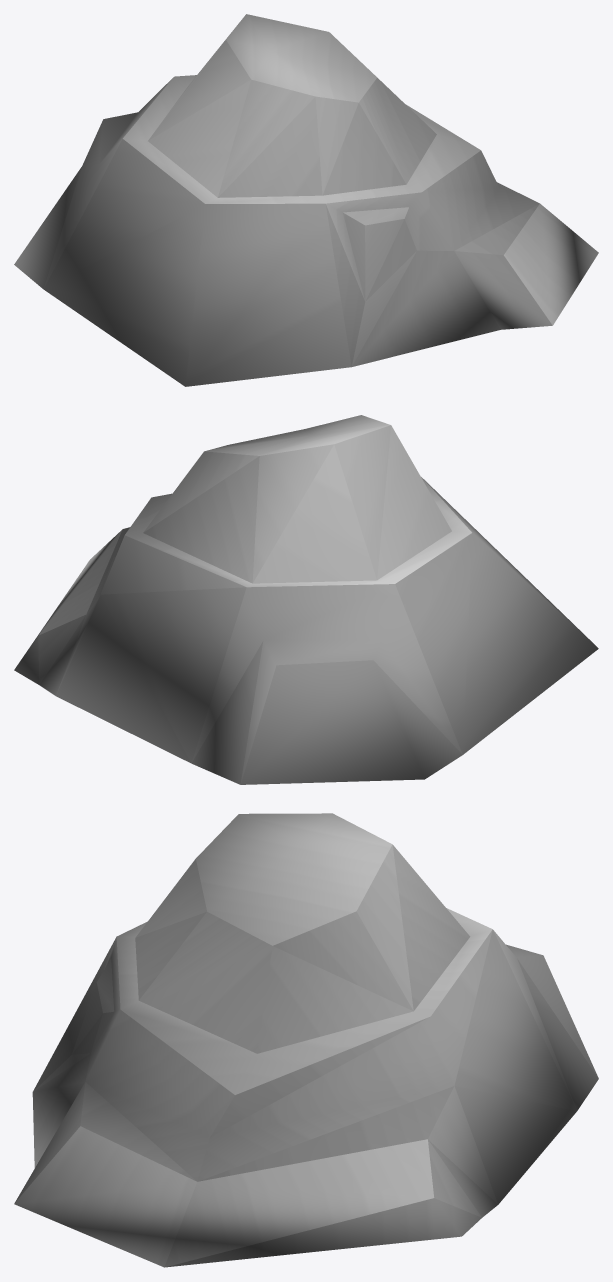
The model's file is GL-Rock-01.fbx.
3 renders of one model, top to bottom at view 1: azimuth 30°, elevation 25°; view 2: azimuth 150°, elevation 25°; view 3: azimuth 270°, elevation 25°, orthographic. The views are drawn at different scales.
Parts seen in each view (by area): view 1: GL-Rock-01; view 2: GL-Rock-01; view 3: GL-Rock-01.
Part boxes in pixels (x1,y1,x2,y2): GL-Rock-01: (14,14,598,386); GL-Rock-01: (14,415,598,784); GL-Rock-01: (14,813,598,1267).
Bounding box in the file's own units: 3.04 × 1.5 × 2.85.
